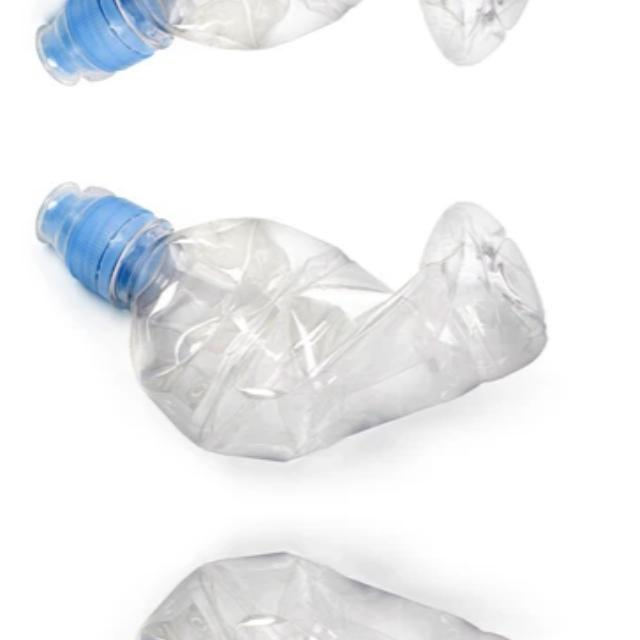Plastic: (31, 167, 592, 477), (30, 536, 591, 640), (30, 0, 591, 99)
